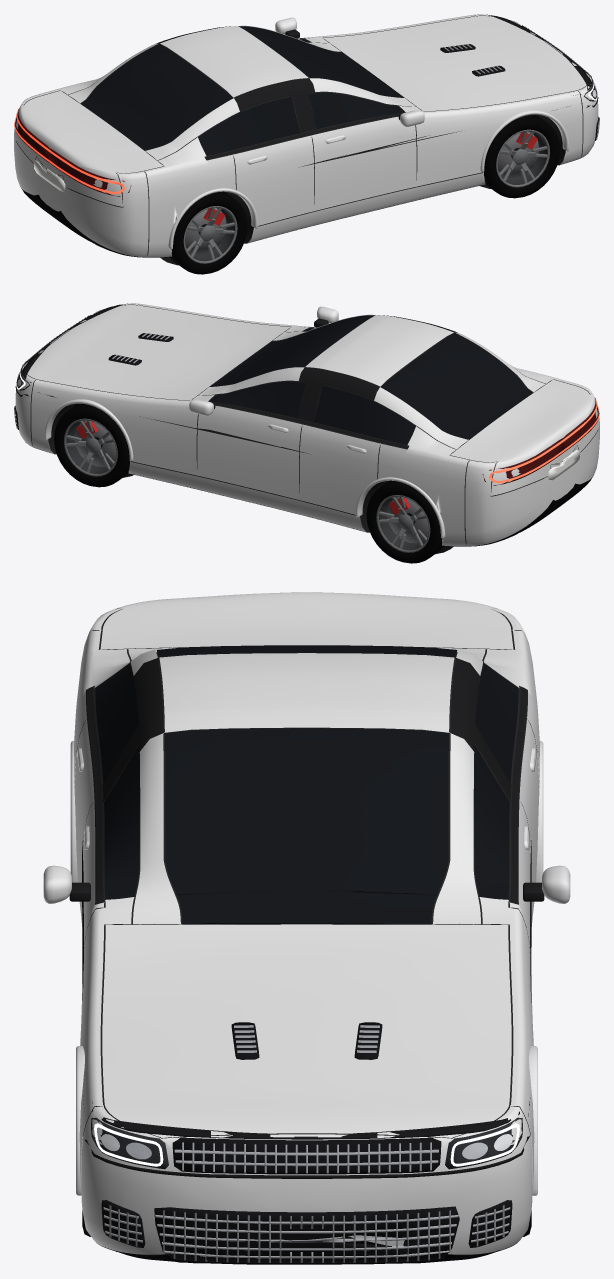
File: dodgy_charjer.glb
The picture shows the model from 3 angles, top to bottom: view 1: azimuth 30°, elevation 25°; view 2: azimuth 150°, elevation 25°; view 3: azimuth 270°, elevation 25°; orthographic projection. The views are drawn at different scales.
Parts seen in each view (by area): view 1: part_glass, part_hood, part_roof, part_fender_fr, part_trunk, part_door_fr, part_rear_bumper, part_quarter_rr, part_door_rr, wheel_fr, wheel_rr, part_rocker_r (+11 smaller); view 2: part_glass, part_hood, part_roof, part_fender_fl, part_trunk, part_door_fl, part_rear_bumper, part_quarter_rl, part_door_rl, wheel_fl, wheel_rl, part_rocker_l (+11 smaller); view 3: part_hood, part_glass, part_roof, part_front_bumper, part_underbody, part_trunk, grille.001, core, part_fender_fl, part_fender_fr, part_pillars, part_beltline (+10 smaller).
Boxes of the visible parts, <box> form: part_glass: <box>81,26,404,156</box>; part_hood: <box>323,16,589,111</box>; part_roof: <box>68,25,415,160</box>; part_fender_fr: <box>399,90,582,186</box>; part_trunk: <box>14,90,163,206</box>; part_door_fr: <box>311,116,416,210</box>; part_rear_bumper: <box>14,94,148,257</box>; part_quarter_rr: <box>144,137,258,257</box>; part_door_rr: <box>233,135,314,225</box>; wheel_fr: <box>482,114,559,198</box>; wheel_rr: <box>169,191,247,274</box>; part_rocker_r: <box>248,172,485,243</box>; part_glass: <box>209,315,532,445</box>; part_hood: <box>24,305,290,400</box>; part_roof: <box>198,314,545,449</box>; part_fender_fl: <box>31,379,214,475</box>; part_trunk: <box>450,379,599,495</box>; part_door_fl: <box>197,405,302,499</box>; part_rear_bumper: <box>465,383,599,546</box>; part_quarter_rl: <box>355,426,469,546</box>; part_door_rl: <box>299,424,380,514</box>; wheel_fl: <box>54,403,131,487</box>; wheel_rl: <box>366,480,444,563</box>; part_rocker_l: <box>128,461,365,532</box>; part_hood: <box>102,924,511,1137</box>; part_glass: <box>95,645,519,924</box>; part_roof: <box>128,647,485,924</box>; part_front_bumper: <box>81,1106,532,1254</box>; part_underbody: <box>97,1022,516,1264</box>; part_trunk: <box>100,592,513,649</box>; grille.001: <box>82,834,531,1262</box>; core: <box>76,612,537,1255</box>; part_fender_fl: <box>479,897,537,1225</box>; part_fender_fr: <box>76,897,134,1225</box>; part_pillars: <box>102,658,511,801</box>; part_beltline: <box>87,686,526,903</box>.
Bounding box in the file's own units: 5.06 × 1.52 × 2.23.
